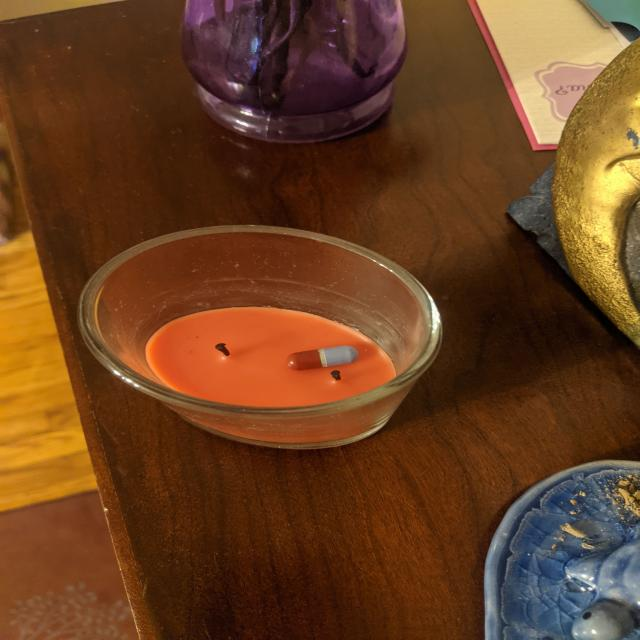non-organic waste: (284, 345, 360, 371)
